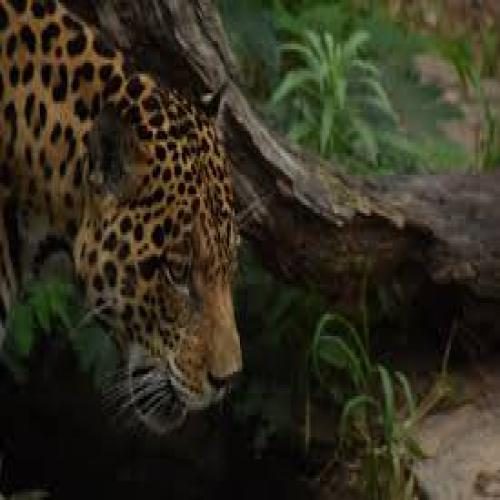jaguar_not-endangered: (14, 6, 242, 429)
